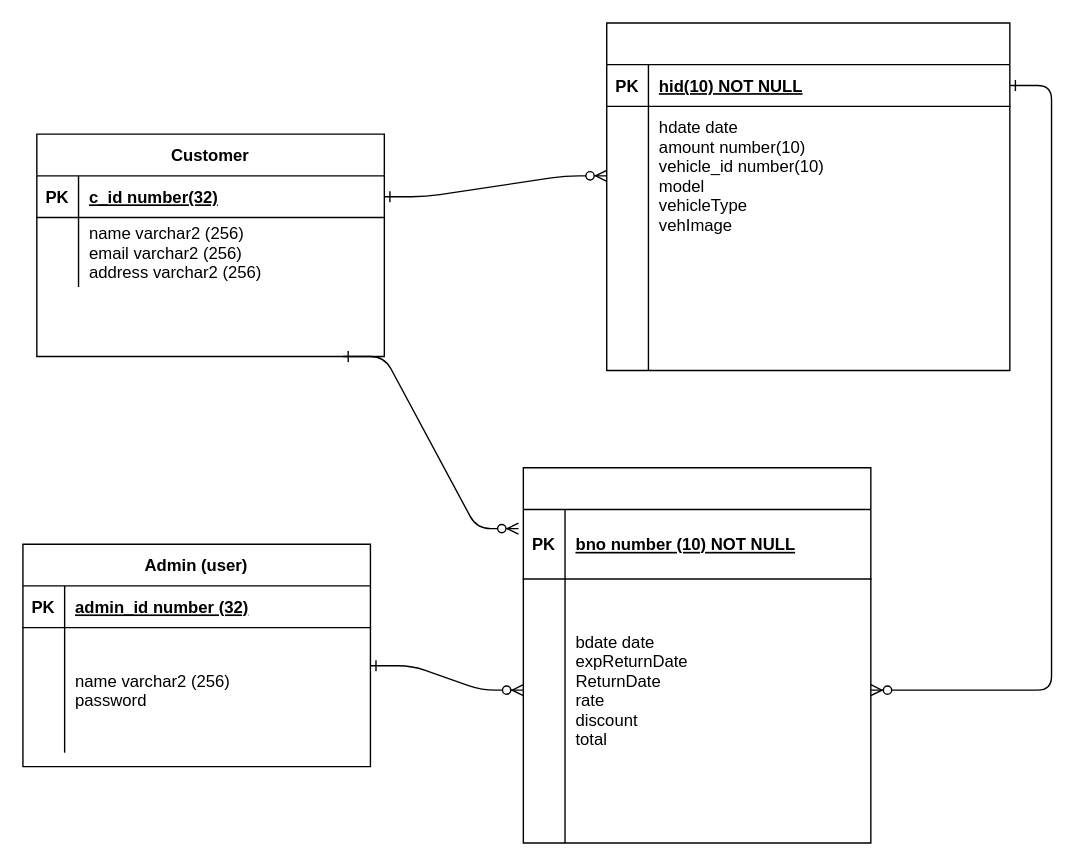
The diagram is 1074 pixels wide and 866 high, and some of its shapes have lost their labels. Each missing label, with the box of its shape:
Bill (Bookings): (522, 466, 871, 843)
Hire (Vehicle): (605, 22, 1010, 370)
